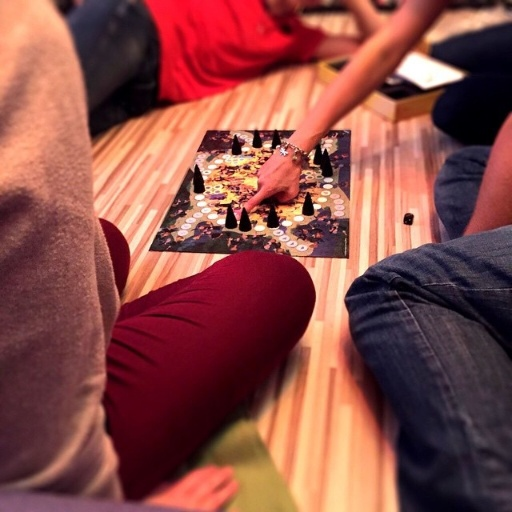hand: (141, 464, 236, 511), (251, 136, 319, 201)
